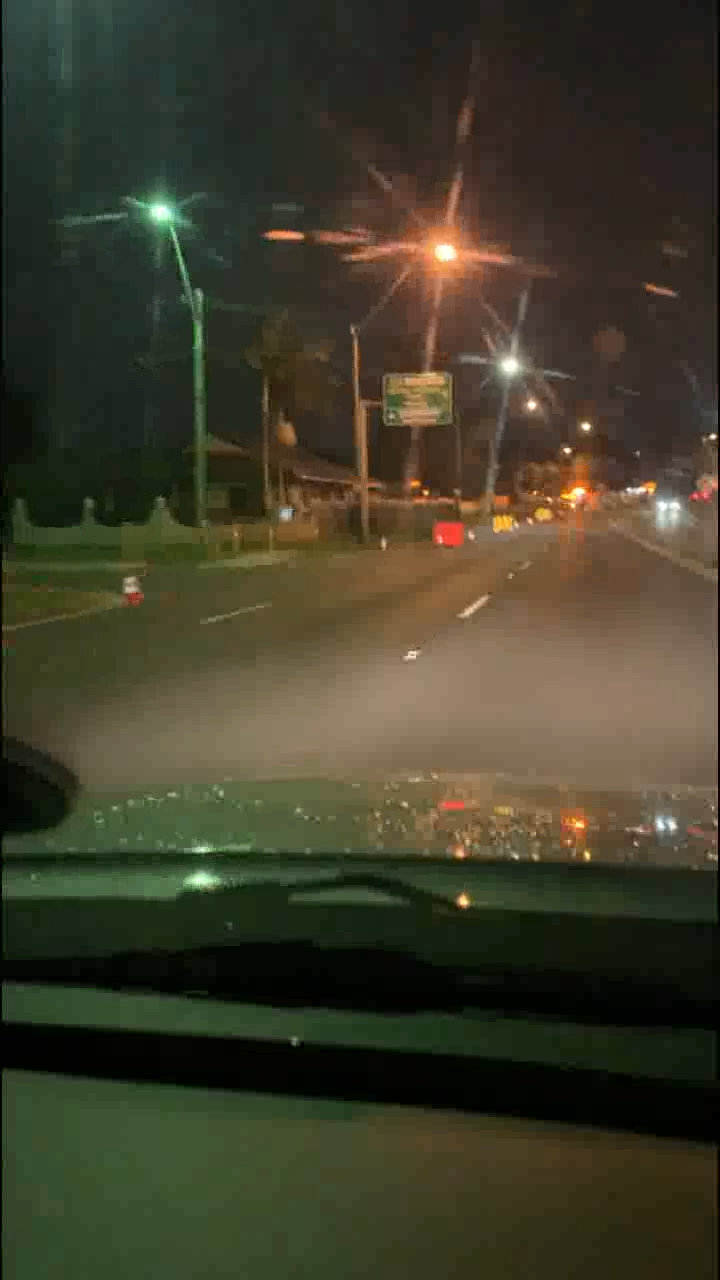road cone: (116, 573, 139, 602)
road works sign board: (431, 519, 479, 554)
